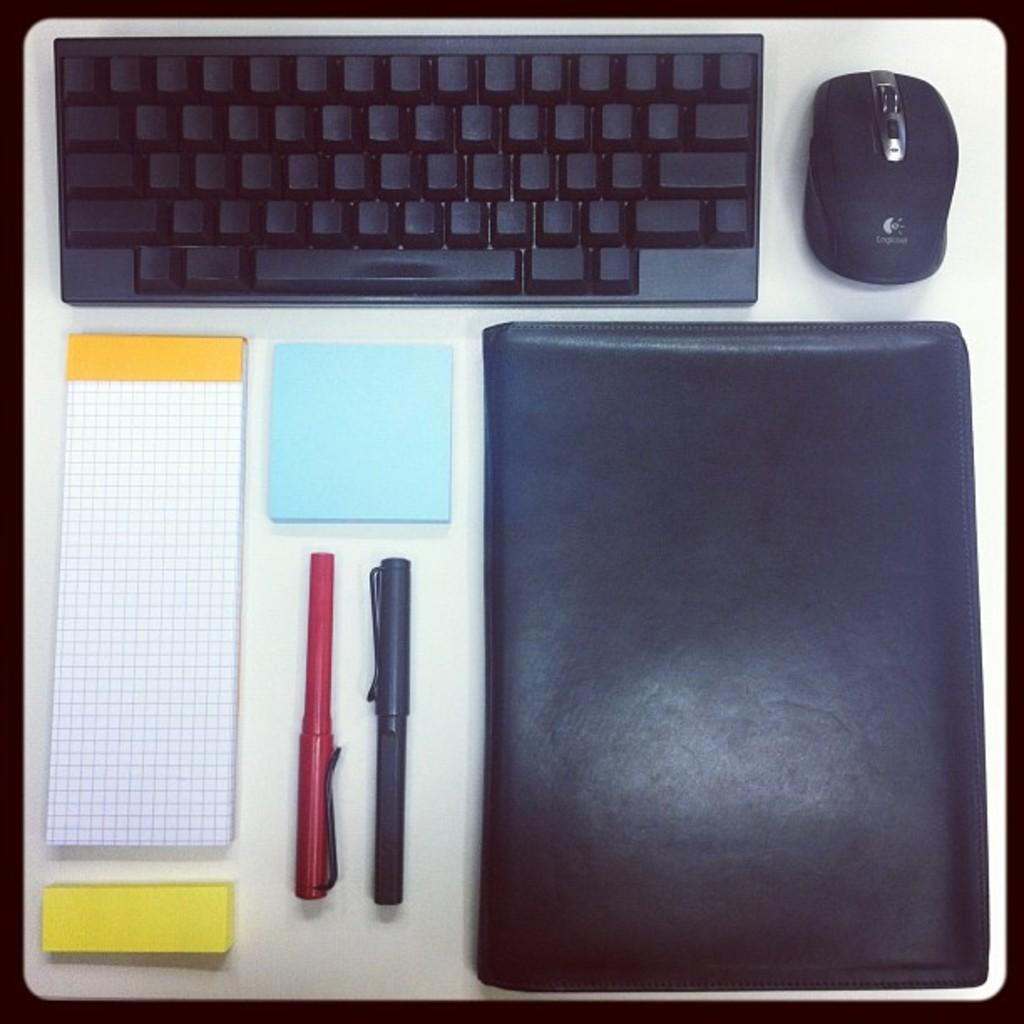Computer-mouse: (796, 65, 962, 289)
